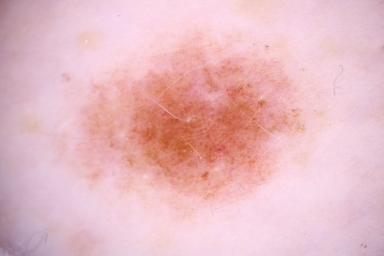nevus: (63, 41, 301, 196)
